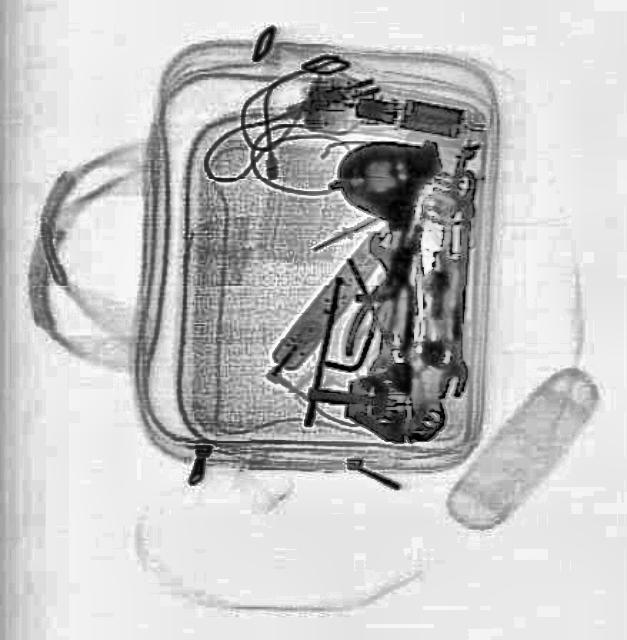Wrench: (436, 168, 476, 396), (362, 228, 404, 378)
